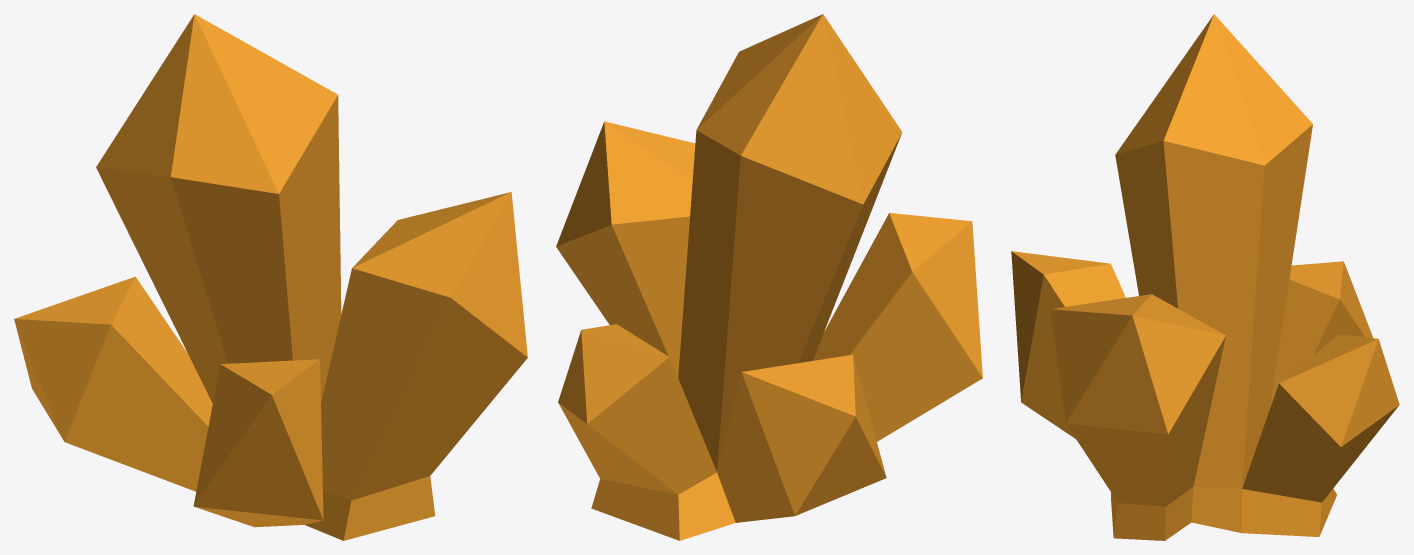
File: Crystal-C03.fbx
3 renders of one model, left to right at view 1: azimuth 30°, elevation 25°; view 2: azimuth 150°, elevation 25°; view 3: azimuth 270°, elevation 25°, orthographic. The views are drawn at different scales.
Visible parts, largest first — view 1: Crystal-C03; view 2: Crystal-C03; view 3: Crystal-C03.
Part boxes in pixels (x1,y1,x2,y2): Crystal-C03: [14, 14, 527, 540]; Crystal-C03: [556, 14, 982, 540]; Crystal-C03: [1011, 14, 1399, 540].
Size of the model in its own units: 99.28 by 119 by 93.14.
